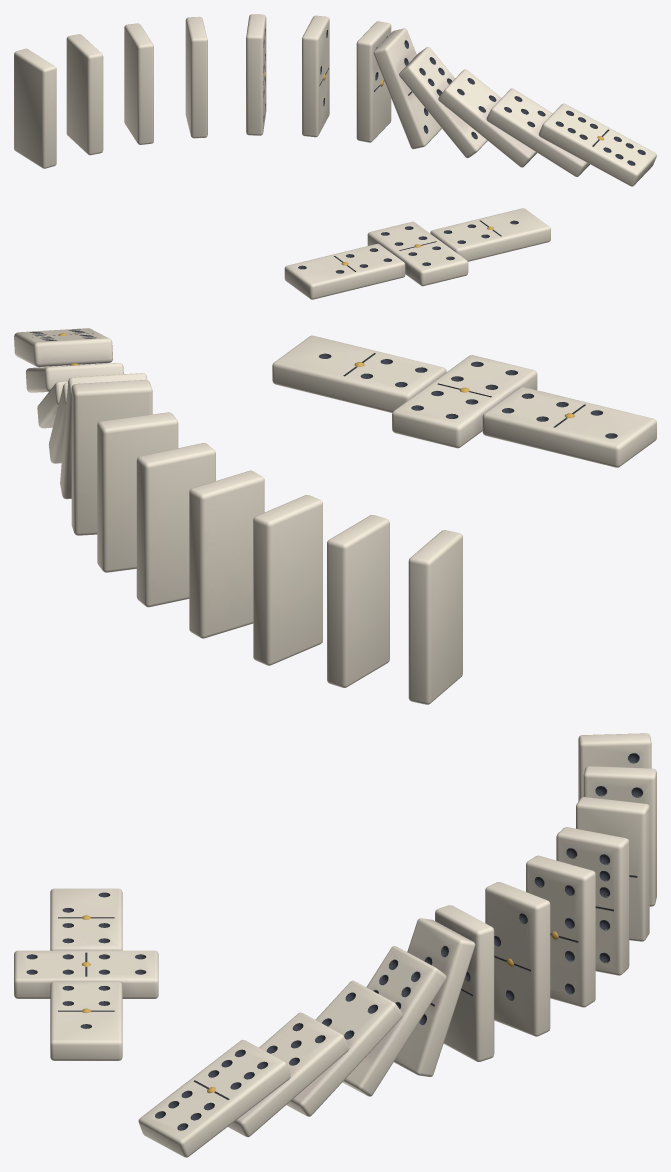
The model's file is domino.glb.
The picture shows the model from 3 angles, top to bottom: view 1: azimuth 30°, elevation 25°; view 2: azimuth 150°, elevation 25°; view 3: azimuth 270°, elevation 25°; orthographic projection. The views are drawn at different scales.
Visible parts, largest first — view 1: dominoes_body; view 2: dominoes_body; view 3: dominoes_body.
Part boxes in pixels (x1,y1,x2,y2): dominoes_body: (14, 14, 656, 299); dominoes_body: (14, 328, 656, 704); dominoes_body: (14, 733, 656, 1157).
Size of the model in its own units: 0.234 by 0.048 by 0.2132.
Materials: 1 (1 with a texture image).
